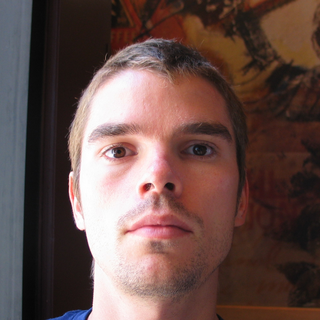eye: (177, 139, 223, 163), (95, 140, 139, 164)
